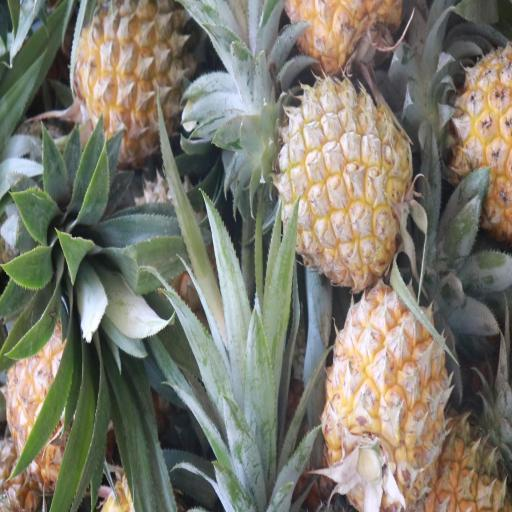------------------------------: (71, 0, 193, 155)
Pineapple - v8 v1: (274, 76, 409, 287), (328, 281, 446, 512), (428, 2, 512, 220)
